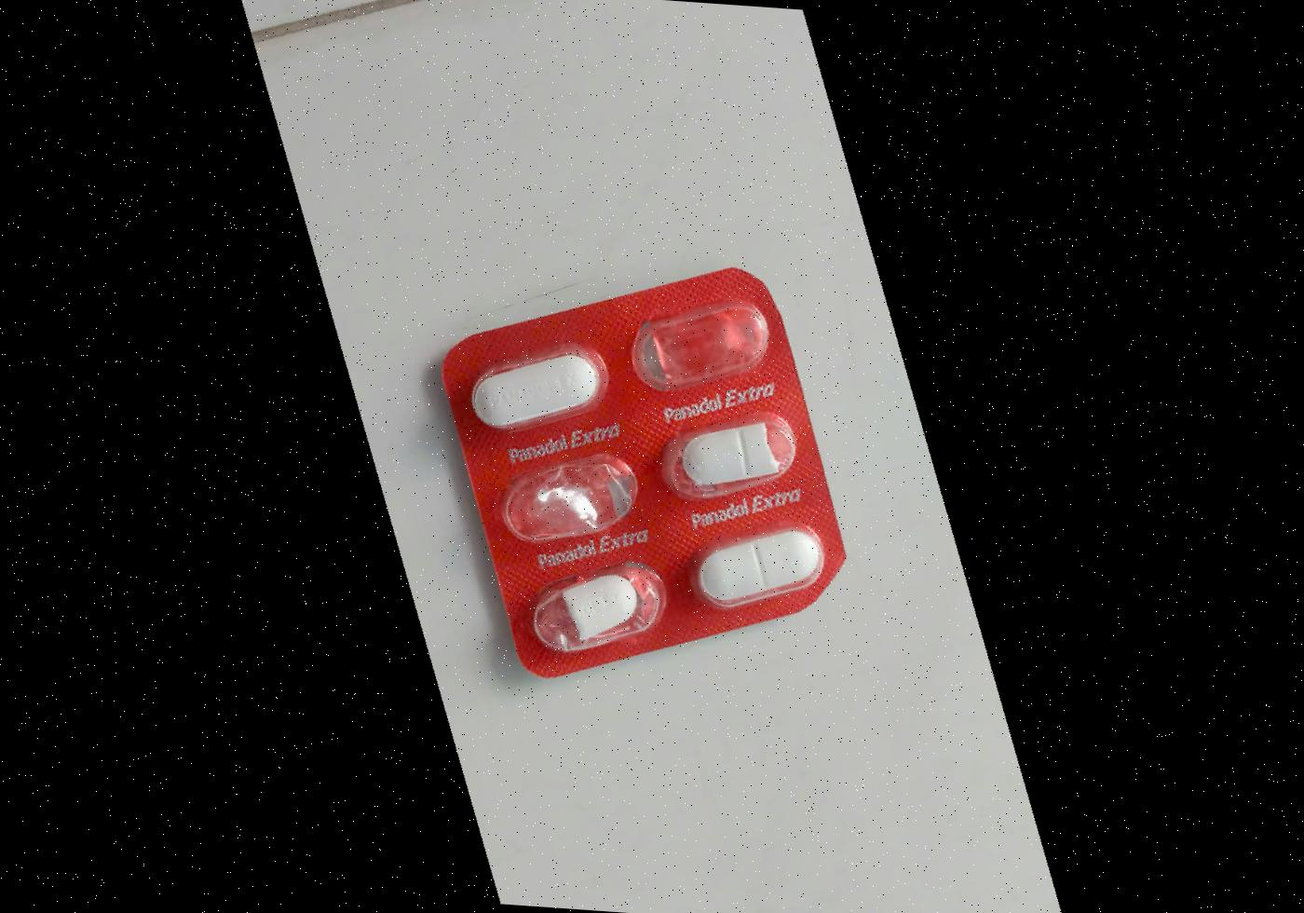Empty: (619, 294, 779, 408), (492, 443, 652, 557)
Full: (460, 332, 620, 446), (682, 509, 842, 623)
Partial: (518, 553, 678, 667), (651, 400, 811, 514)
